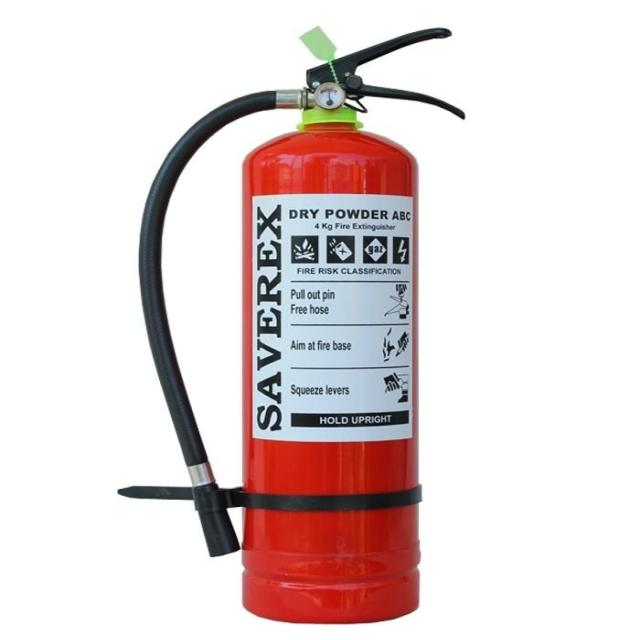fire_extinguisher: (129, 23, 470, 630)
